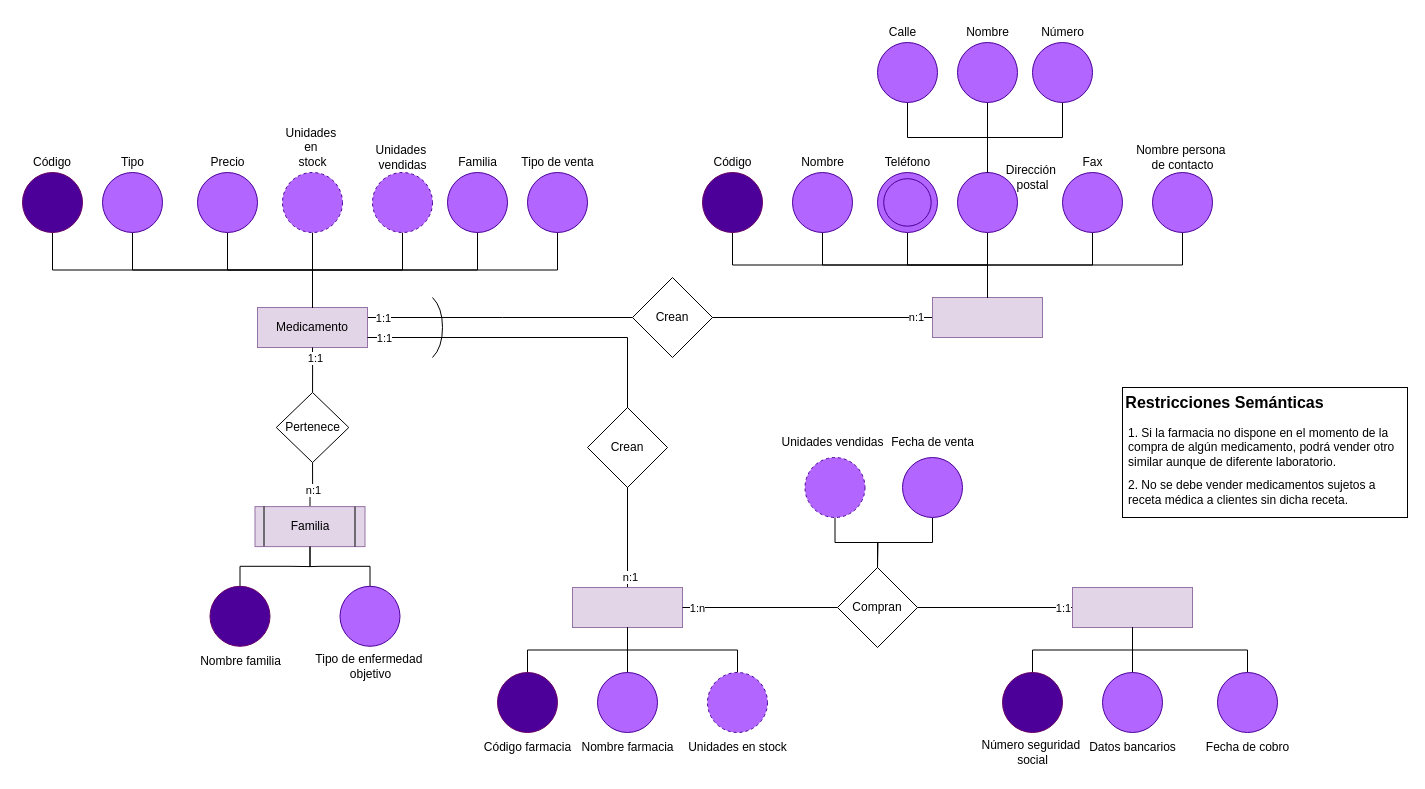
The diagram is 1425 pixels wide and 789 high, and some of its shapes have lost their labels. Each missing label, with the centre of its shape:
"Clientes con crédito" belongs at (x=1132, y=607).
"Farmacia" belongs at (x=627, y=607).
"Laboratorio" belongs at (x=987, y=317).
